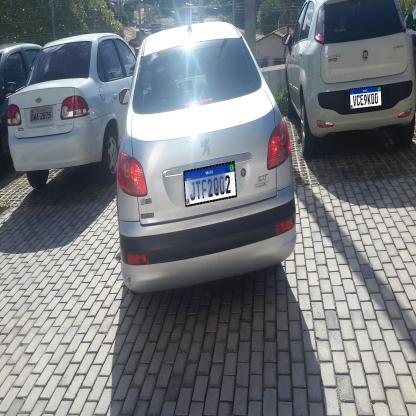PlacaM: (183, 161, 237, 207), (349, 85, 382, 110)
